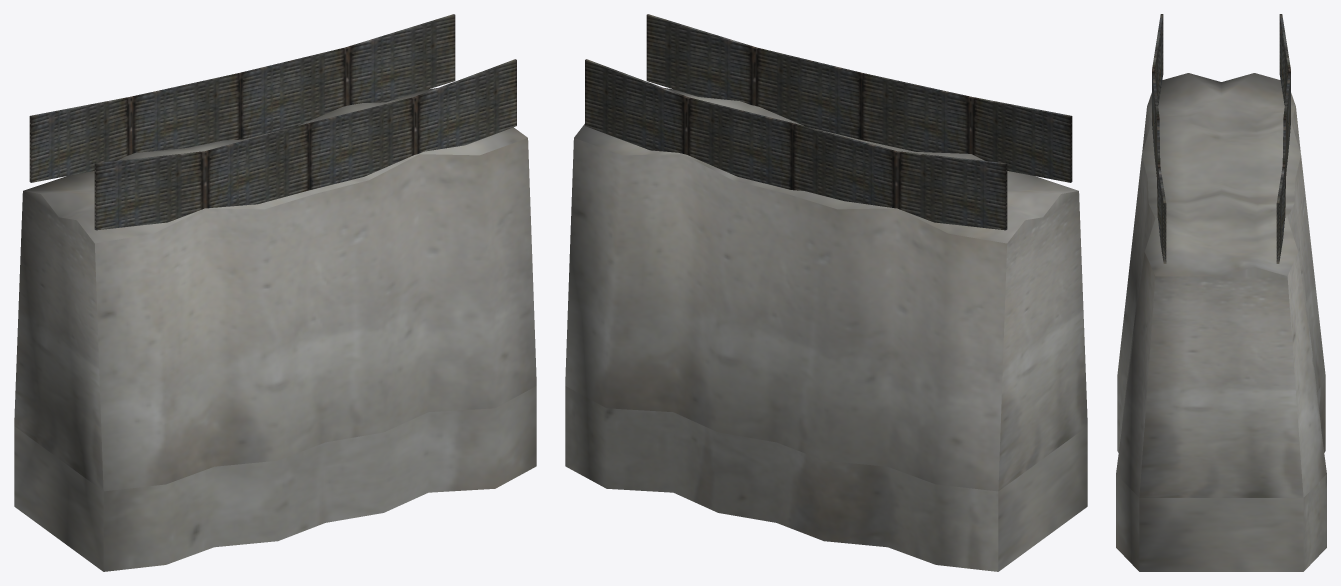
The model's file is wall_short.dae.
3 views of the same model, side by side, from view 1: azimuth 30°, elevation 25°; view 2: azimuth 150°, elevation 25°; view 3: azimuth 270°, elevation 25° (orthographic). The views are drawn at different scales.
Parts seen in each view (by area): view 1: wall_short; view 2: wall_short; view 3: wall_short.
Boxes of the visible parts, x1,y1,x2,y2 form: wall_short: [14, 14, 536, 571]; wall_short: [565, 14, 1087, 571]; wall_short: [1116, 14, 1326, 571].
Bounding box in the file's own units: 18.09 × 8.31 × 15.88.
Materials: 1 (1 with a texture image).
